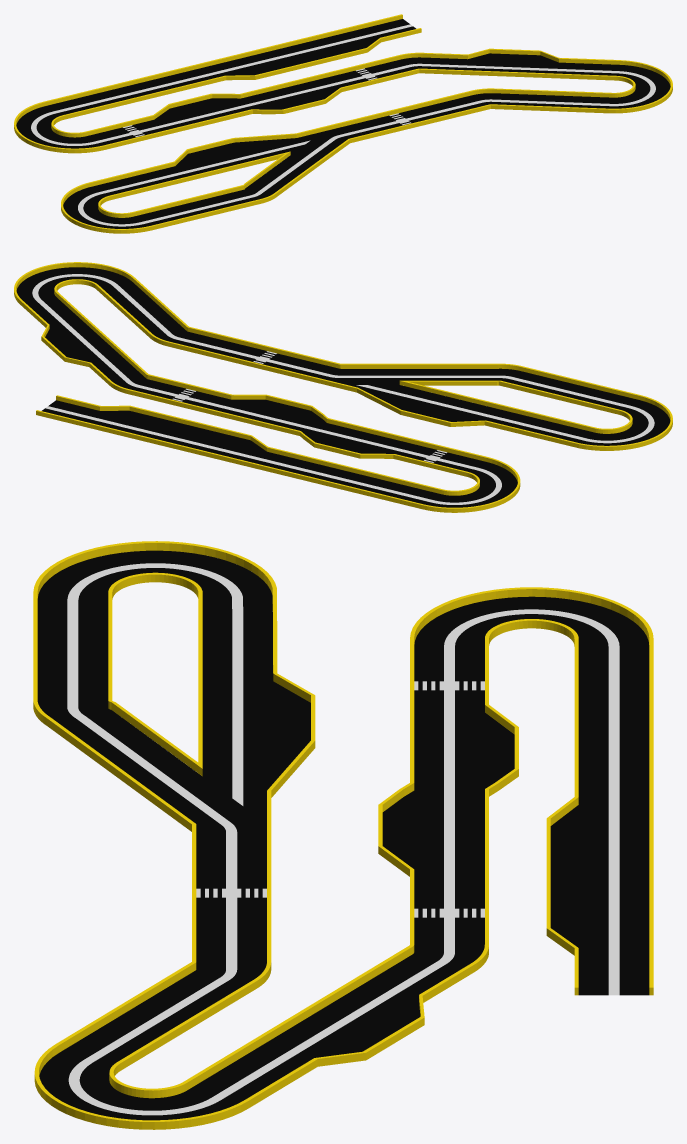
Rendered from road.dae.
The picture shows the model from 3 angles, top to bottom: view 1: azimuth 30°, elevation 25°; view 2: azimuth 150°, elevation 25°; view 3: azimuth 270°, elevation 25°; orthographic projection. The views are drawn at different scales.
Parts seen in each view (by area): view 1: Plane, Plane.001, Cube; view 2: Plane, Plane.001, Cube; view 3: Plane, Plane.001, Cube.
Part boxes in pixels (x1,y1,x2,y2): Plane: [14, 14, 672, 233]; Plane.001: [83, 115, 395, 224]; Cube: [98, 151, 290, 217]; Plane: [14, 262, 672, 512]; Plane.001: [263, 361, 648, 440]; Cube: [399, 380, 632, 433]; Plane: [33, 541, 653, 1129]; Plane.001: [78, 568, 266, 888]; Cube: [108, 572, 202, 776].
Size of the model in its own units: 16.16 by 7.29 by 0.1.
